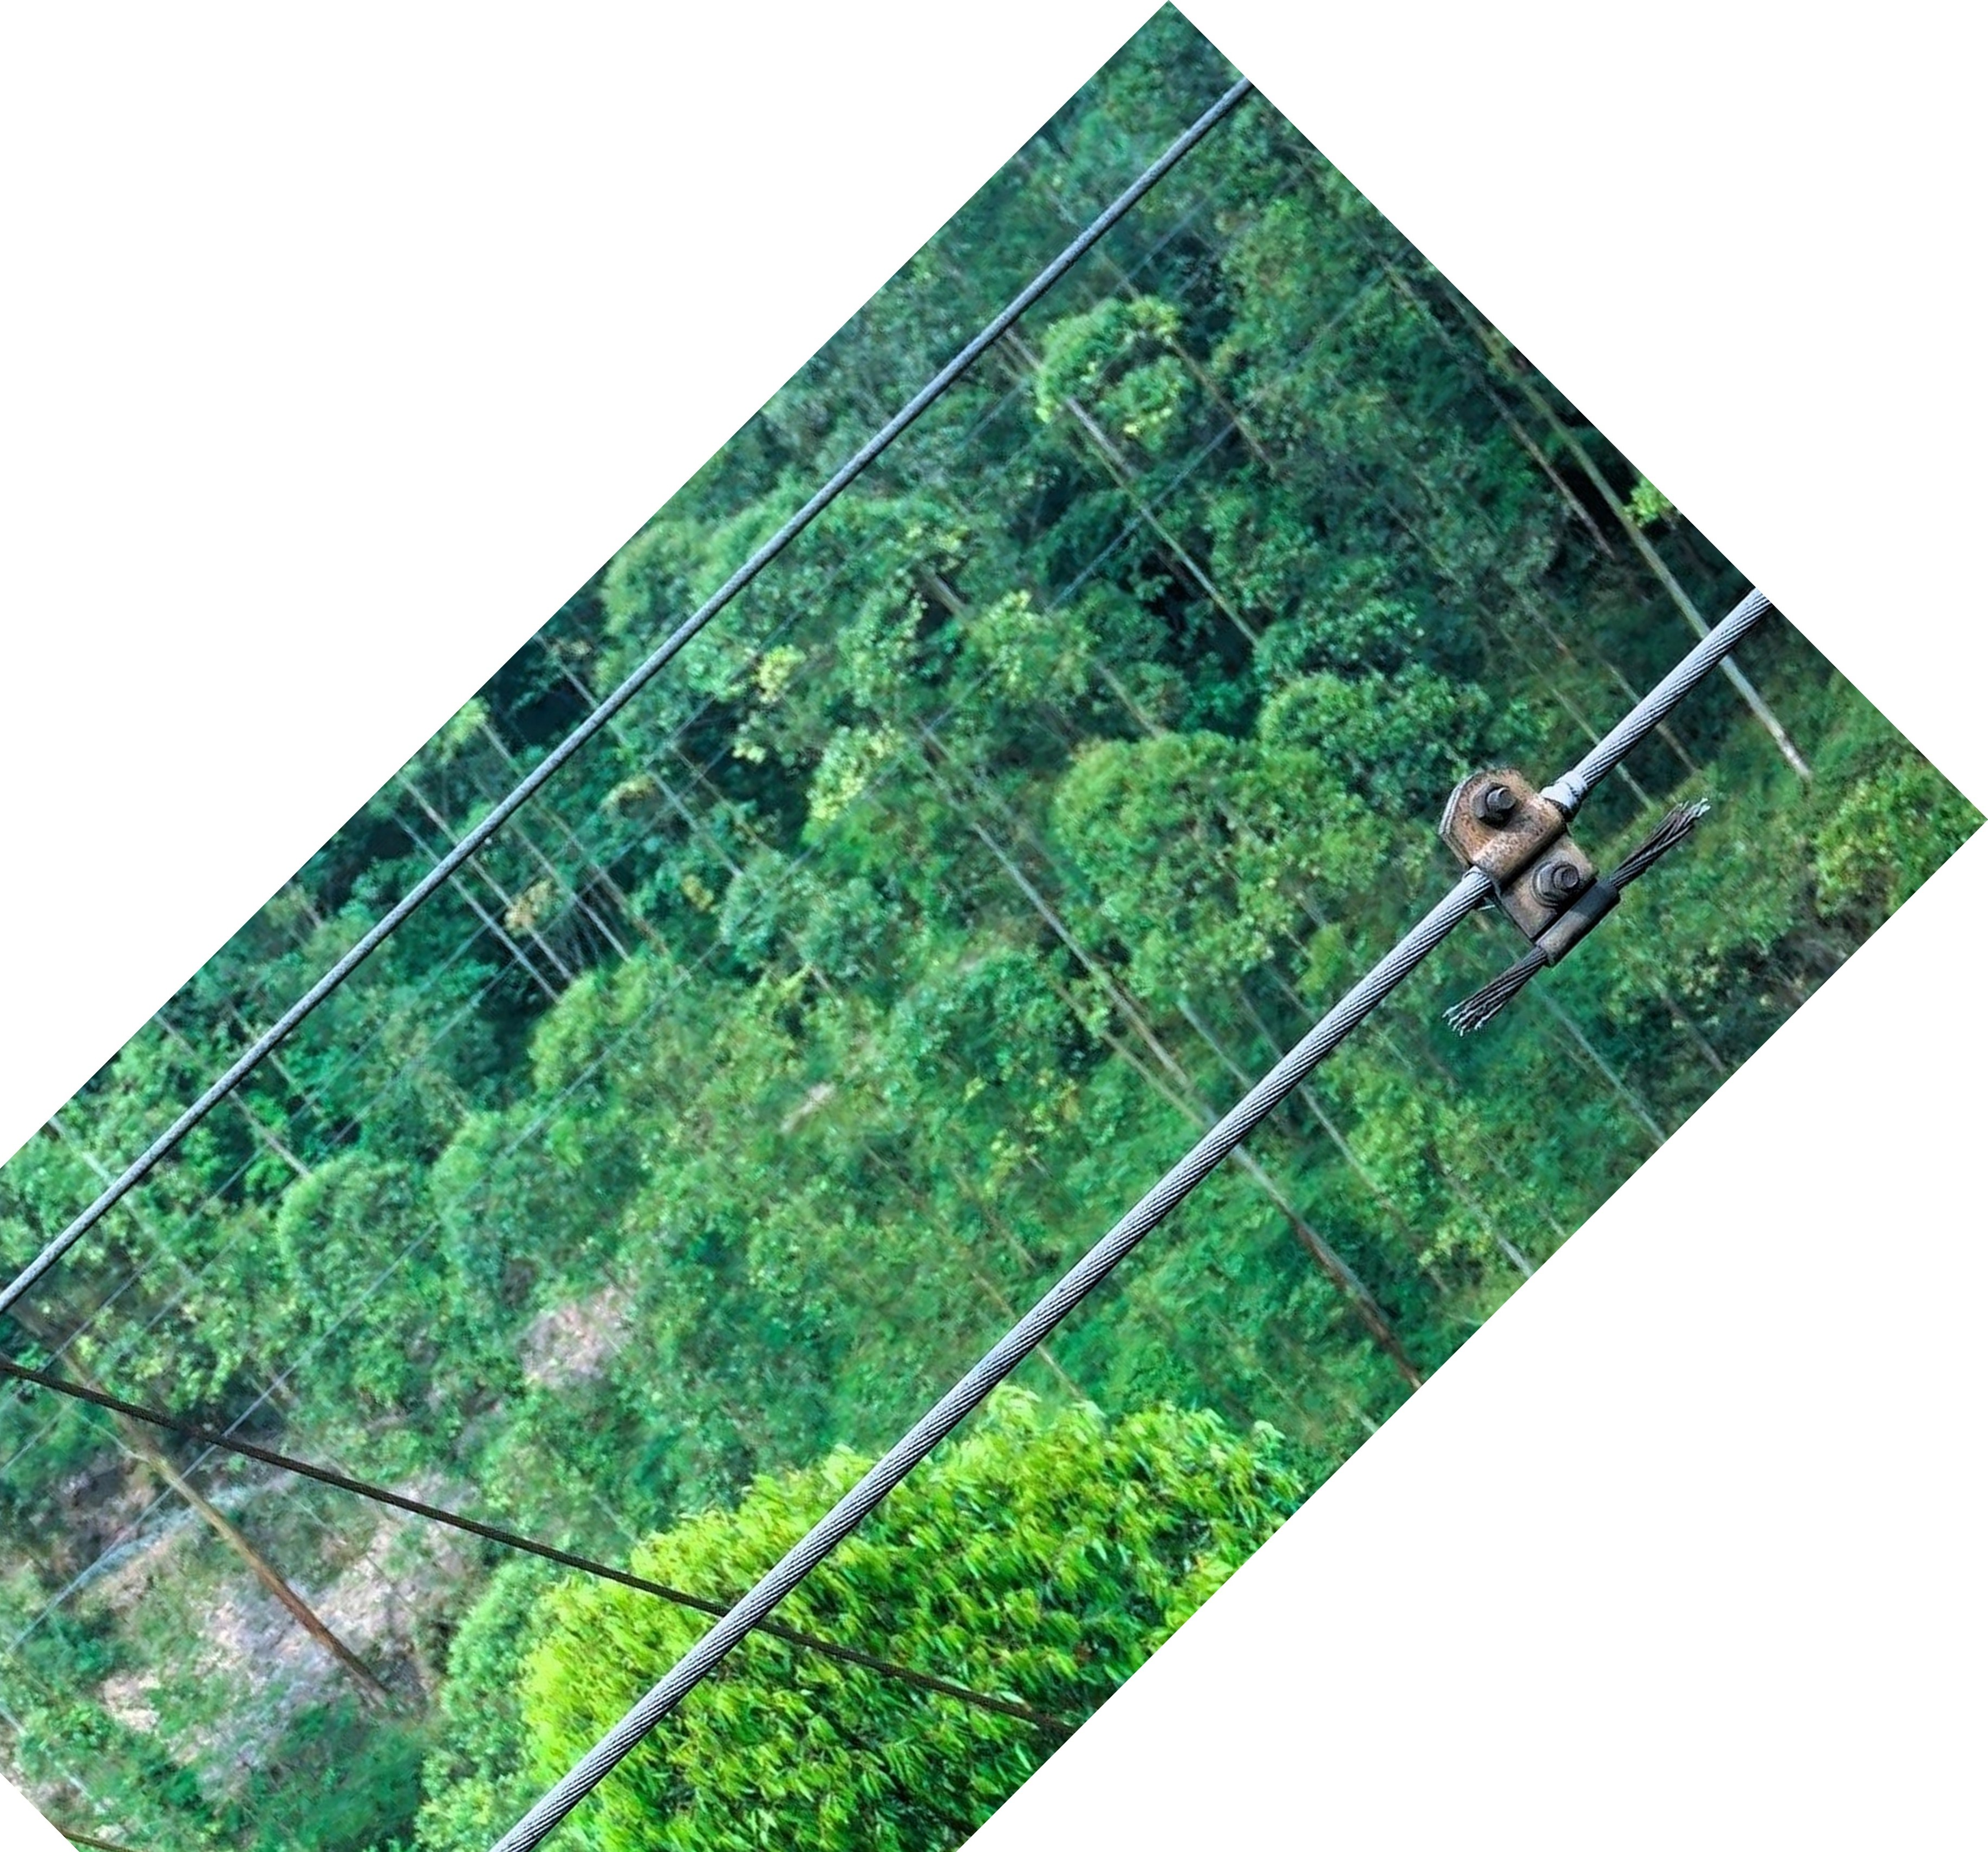Damage of shockproof hammer: (1373, 715, 1730, 1079)
